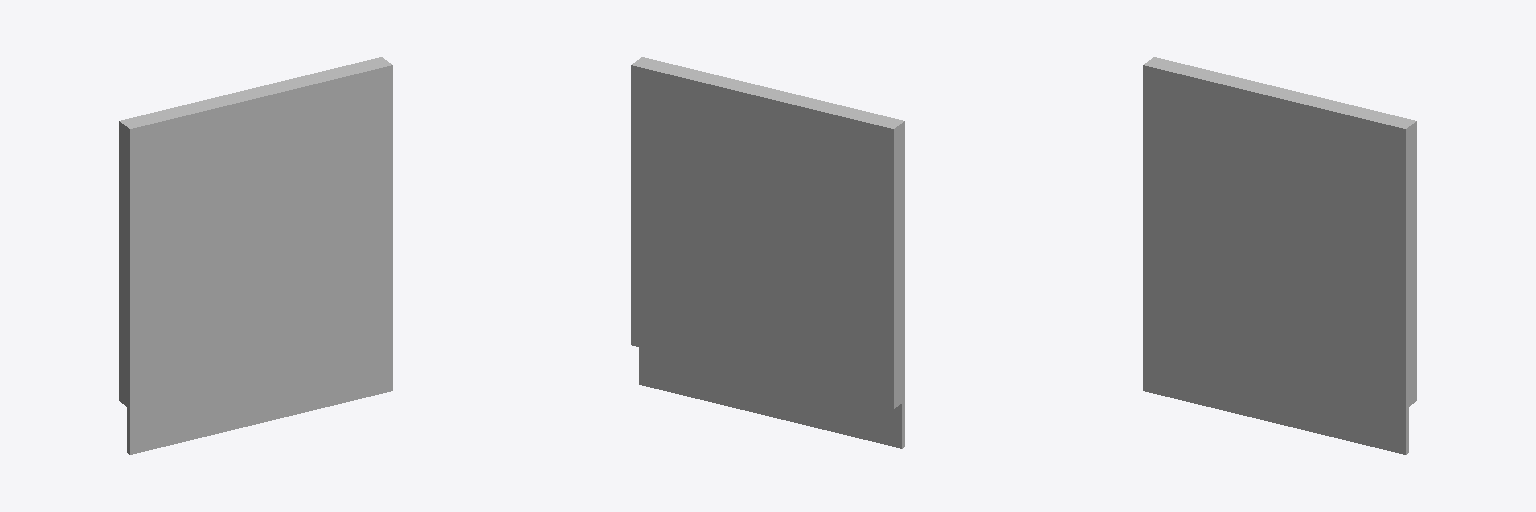
The model's file is Wall.obj.
3 renders of one model, left to right at view 1: azimuth 30°, elevation 25°; view 2: azimuth 150°, elevation 25°; view 3: azimuth 330°, elevation 25°, orthographic.
Bounding box in the file's own units: 54 × 64 × 4.